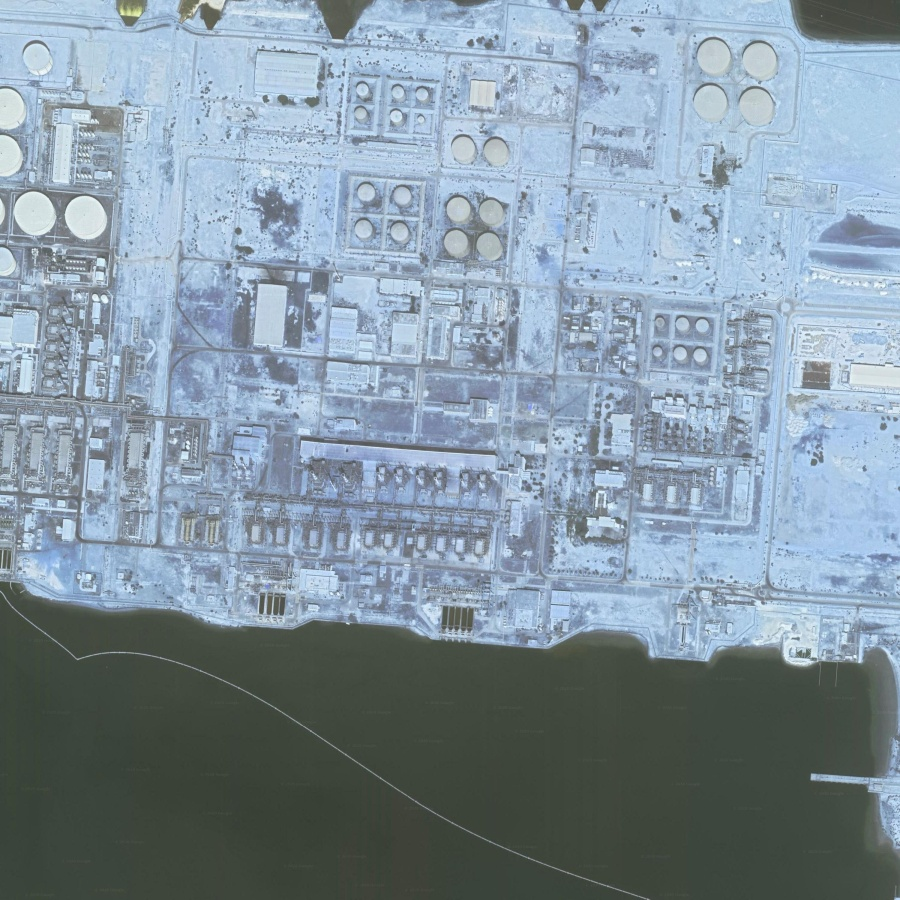PowerPlant: (227, 46, 770, 563)
